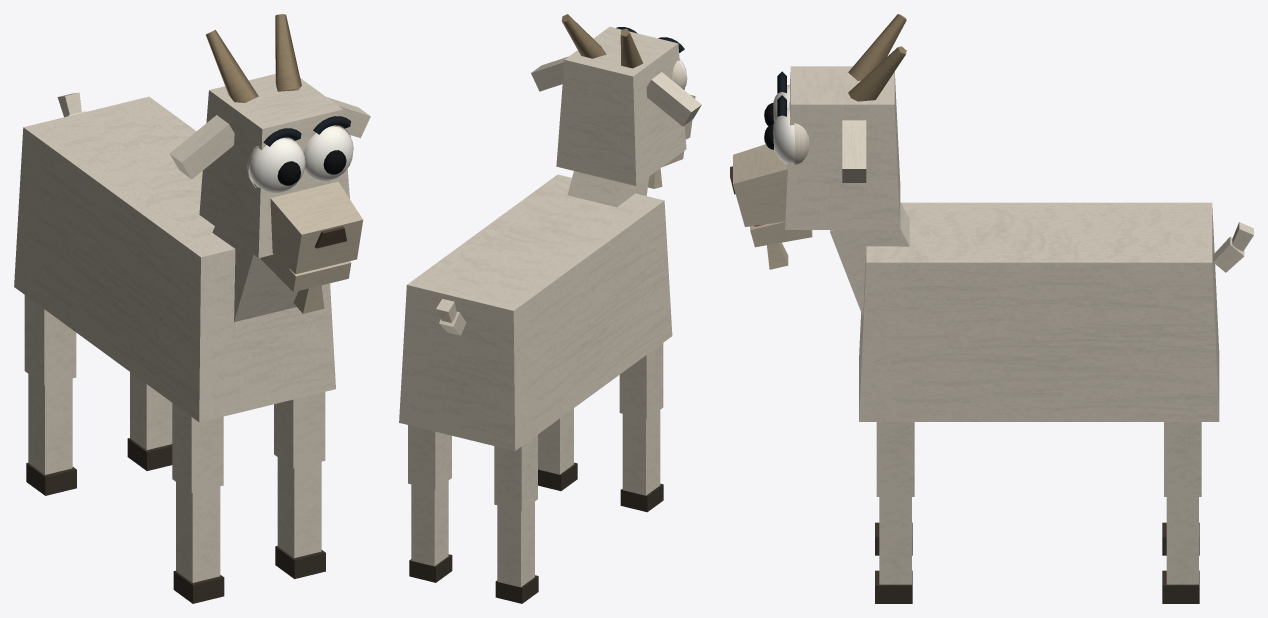
File: goat.glb
The picture shows the model from 3 angles, left to right: view 1: azimuth 30°, elevation 25°; view 2: azimuth 150°, elevation 25°; view 3: azimuth 270°, elevation 25°; orthographic projection. The views are drawn at different scales.
Visible parts, largest first — view 1: body, head, kneeFR, kneeBR, kneeFL, legFR, legBR, kneeBL, legFL, neck, earR, jaw (+3 smaller); view 2: body, head, kneeFR, kneeBR, kneeBL, legBR, legFR, kneeFL, legBL, neck, earR, hornL (+2 smaller); view 3: body, head, kneeFL, kneeBL, legFL, legBL, neck, earL, jaw, hornR, hornL.
Part boxes in pixels (<box>): body: <box>14,96,335,422</box>; head: <box>199,74,363,274</box>; kneeFR: <box>173,482,224,603</box>; kneeBR: <box>26,374,76,495</box>; kneeFL: <box>275,457,325,578</box>; legFR: <box>172,403,223,492</box>; legBR: <box>24,295,76,385</box>; kneeBL: <box>127,372,172,470</box>; legFL: <box>274,392,325,468</box>; neck: <box>212,226,298,322</box>; earR: <box>169,115,234,179</box>; jaw: <box>261,254,351,313</box>; body: <box>399,174,672,450</box>; head: <box>556,26,695,185</box>; kneeFR: <box>620,410,663,512</box>; kneeBR: <box>495,501,538,603</box>; kneeBL: <box>409,481,452,582</box>; legBR: <box>494,435,537,511</box>; legFR: <box>619,343,663,419</box>; kneeFL: <box>538,408,577,490</box>; legBL: <box>408,425,451,489</box>; neck: <box>567,171,649,207</box>; earR: <box>646,72,701,126</box>; hornL: <box>561,14,606,58</box>; body: <box>859,202,1219,421</box>; head: <box>730,66,900,229</box>; kneeFL: <box>875,497,912,603</box>; kneeBL: <box>1162,497,1199,603</box>; legFL: <box>876,422,914,496</box>; legBL: <box>1164,422,1201,496</box>; neck: <box>830,202,909,315</box>; earL: <box>842,120,866,182</box>; jaw: <box>750,221,812,269</box>; hornR: <box>848,14,906,80</box>; hornL: <box>848,46,906,101</box>.
Size of the model in its own units: 0.4423 by 1.24 by 1.09.
18 materials, 15 textured.
